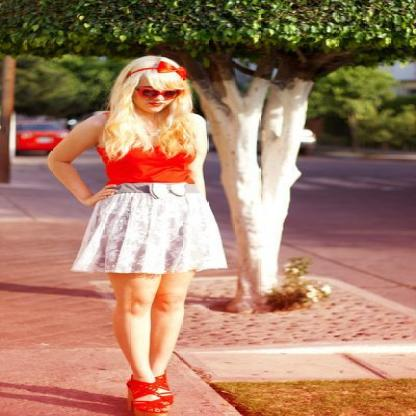shirt: (96, 146, 194, 184)
shoe: (127, 372, 173, 416)
skirt: (72, 182, 226, 278)
sunglass: (132, 79, 181, 108)
